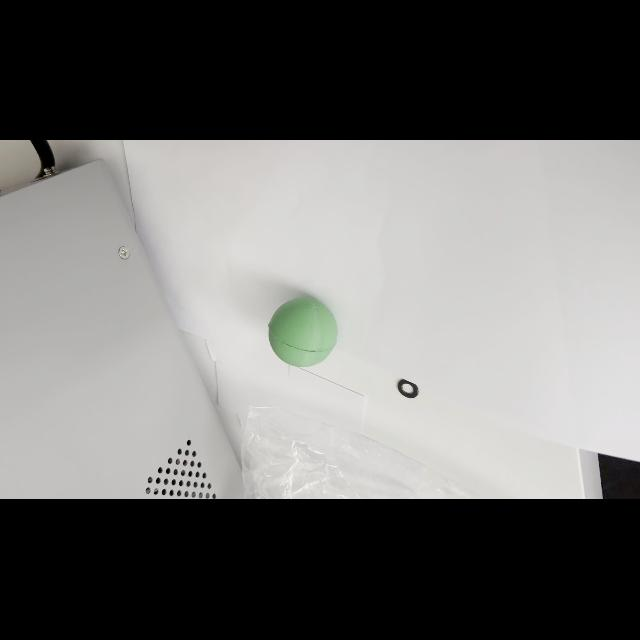objects: (265, 292, 339, 370)
